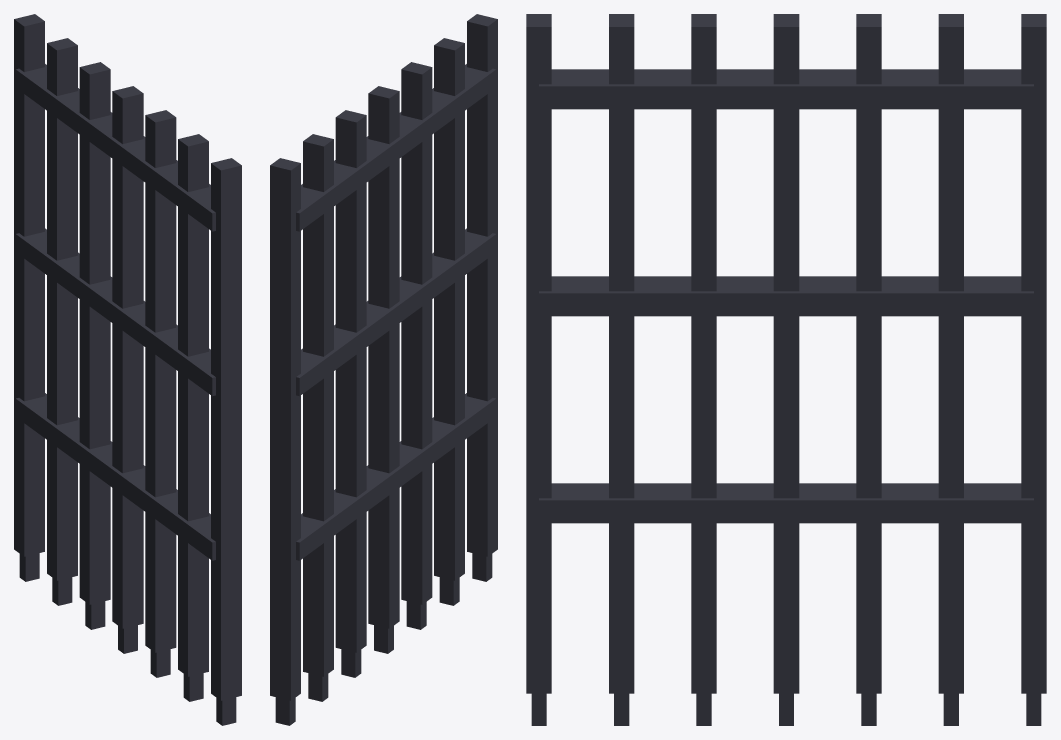
File: FortifiedGate1-Grille.fbx
3 views of the same model, side by side, from view 1: azimuth 30°, elevation 25°; view 2: azimuth 150°, elevation 25°; view 3: azimuth 270°, elevation 25° (orthographic). The views are drawn at different scales.
Visible parts, largest first — view 1: FortifiedGate1-Grille; view 2: FortifiedGate1-Grille; view 3: FortifiedGate1-Grille.
Boxes of the visible parts, box(x1,y1,x2,y2) form: FortifiedGate1-Grille: box(14, 14, 241, 725); FortifiedGate1-Grille: box(270, 14, 497, 725); FortifiedGate1-Grille: box(526, 14, 1046, 725).
Size of the model in its own units: 0.032 by 0.61 by 0.41.
